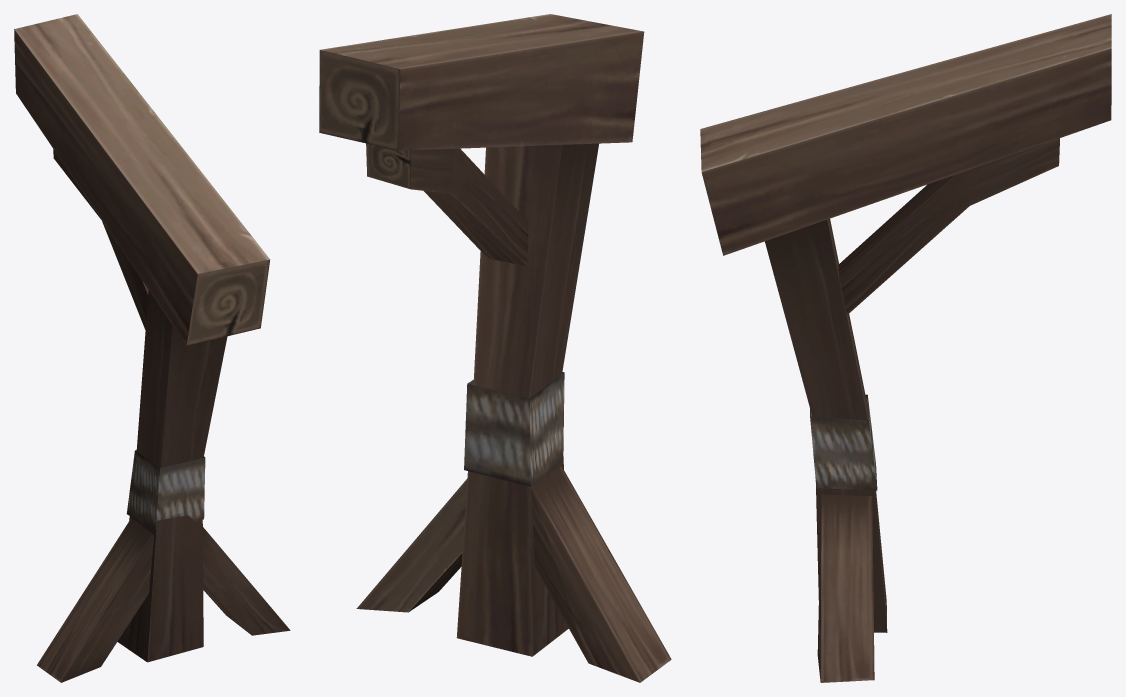
Rendered from bandit_support_02.fbx.
3 views of the same model, side by side, from view 1: azimuth 30°, elevation 25°; view 2: azimuth 150°, elevation 25°; view 3: azimuth 270°, elevation 25° (orthographic). The views are drawn at different scales.
Visible parts, largest first — view 1: obj0.728; view 2: obj0.728; view 3: obj0.728.
Part boxes in pixels (box(x1,y1,x2,y2)): obj0.728: box(14, 14, 290, 682); obj0.728: box(319, 14, 671, 682); obj0.728: box(700, 14, 1111, 682).
Bounding box in the file's own units: 2.79 × 6.33 × 3.99.
